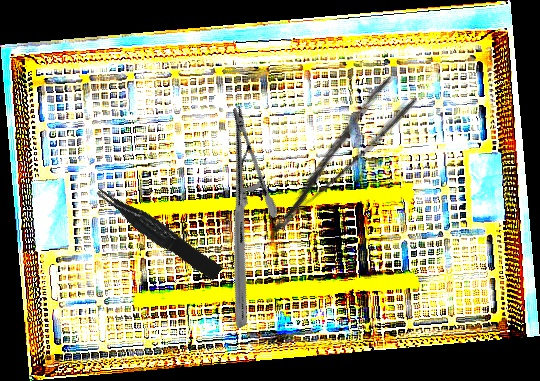Dressing Forceps: (247, 72, 421, 239)
Needle Holder: (141, 104, 338, 330)
Tissue Forceps: (93, 177, 224, 287)
